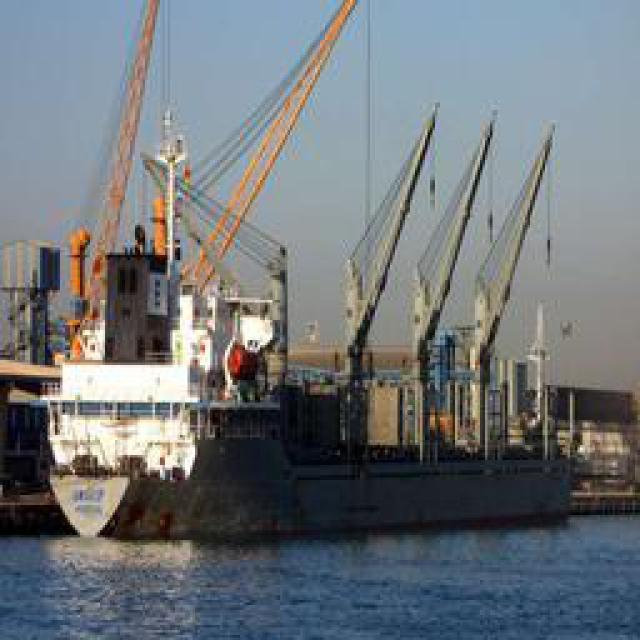Ship: (19, 10, 609, 555)
